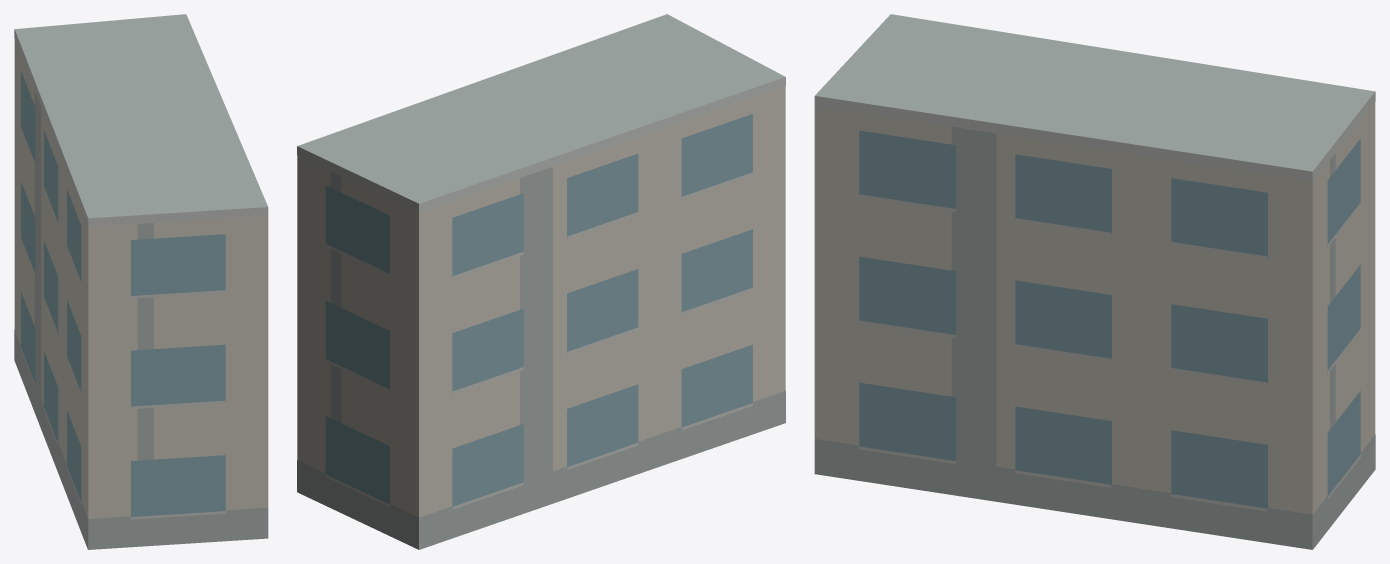
Rendered from survey-upis-33011955.glb.
The picture shows the model from 3 angles, left to right: view 1: azimuth 30°, elevation 25°; view 2: azimuth 150°, elevation 25°; view 3: azimuth 270°, elevation 25°; orthographic projection. The views are drawn at different scales.
Visible parts, largest first — view 1: survey-upis-33011955.tmp; view 2: survey-upis-33011955.tmp; view 3: survey-upis-33011955.tmp.
Boxes of the visible parts, x1,y1,x2,y2 form: survey-upis-33011955.tmp: (14, 14, 268, 549); survey-upis-33011955.tmp: (297, 14, 785, 549); survey-upis-33011955.tmp: (814, 14, 1375, 549).
Bounding box in the file's own units: 8.19 × 9.15 × 12.3.
